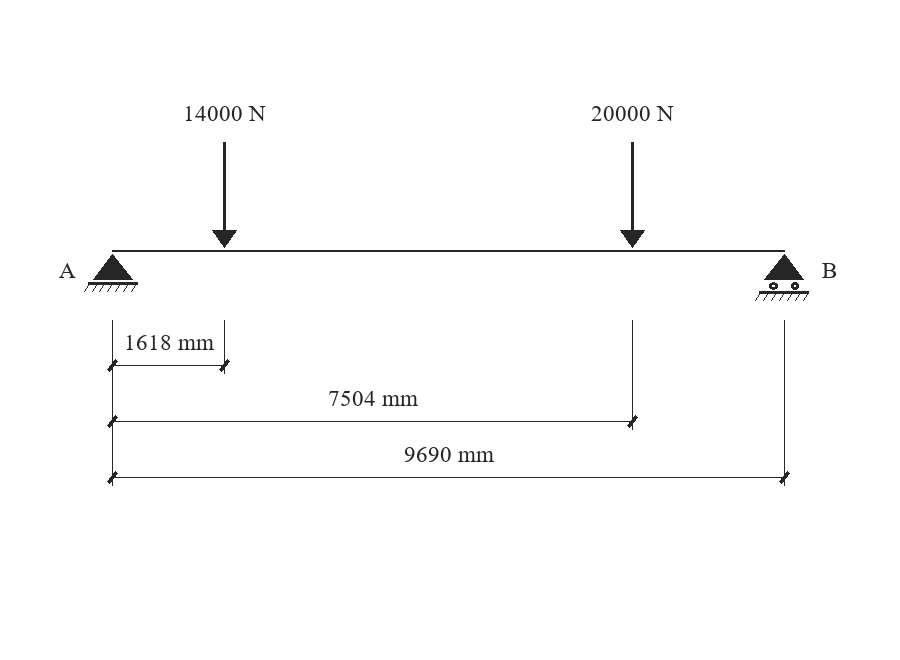pin_support: (84, 254, 138, 292)
point_load: (212, 142, 237, 248), (620, 142, 645, 248)
roller_support: (755, 254, 809, 301)
